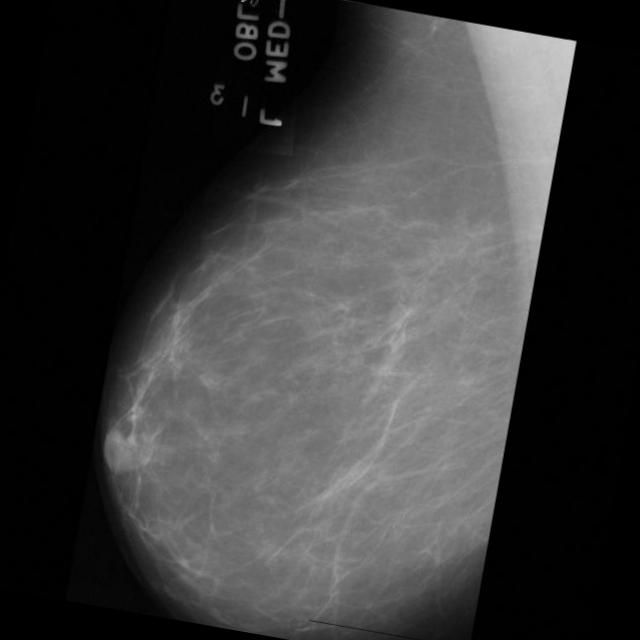CALC: (346, 282, 411, 346)
